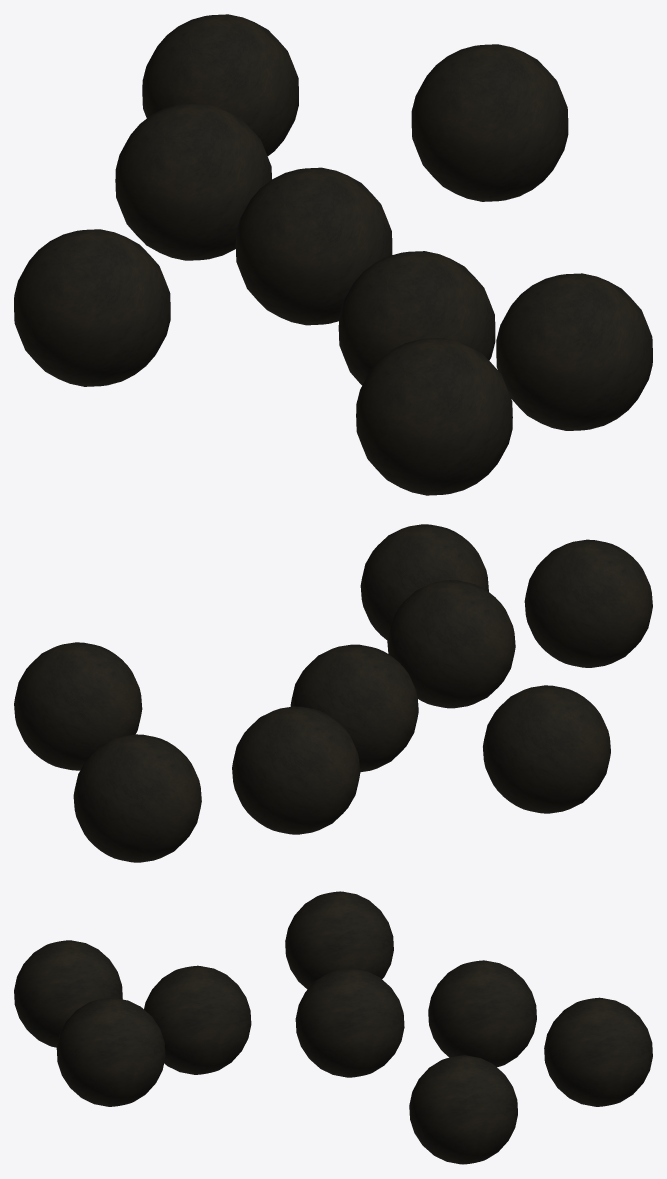
Rendered from balls-on-ground.dae.
The picture shows the model from 3 angles, top to bottom: view 1: azimuth 30°, elevation 25°; view 2: azimuth 150°, elevation 25°; view 3: azimuth 270°, elevation 25°; orthographic projection. The views are drawn at different scales.
Visible parts, largest first — view 1: balls; view 2: balls; view 3: balls.
Part boxes in pixels (x1=…): balls: x1=14, y1=14, x2=652, y2=495; balls: x1=14, y1=524, x2=652, y2=862; balls: x1=14, y1=891, x2=652, y2=1164.
Size of the model in its own units: 0.5835 by 0.7513 by 0.128.
1 material, 1 textured.
